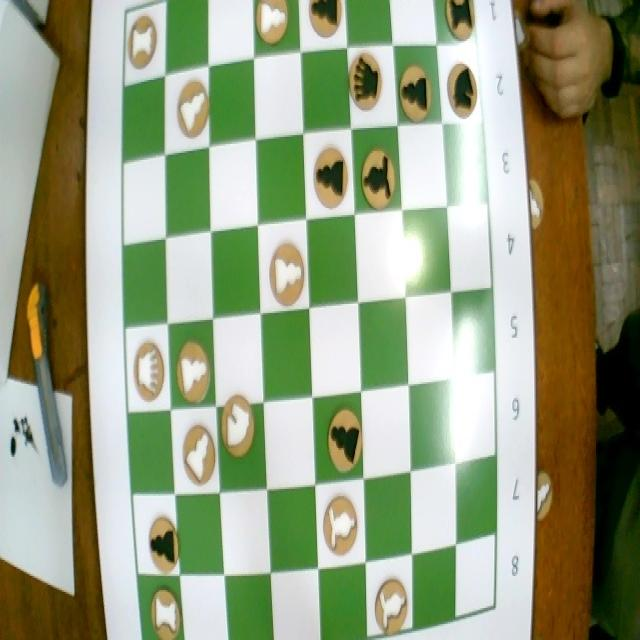chess-pieces: (314, 394, 364, 476), (318, 488, 365, 568), (219, 386, 261, 468), (311, 135, 354, 213), (264, 231, 308, 307), (369, 576, 414, 640), (177, 418, 219, 485), (174, 333, 212, 403), (131, 337, 167, 406), (146, 578, 186, 640), (444, 55, 480, 119), (346, 52, 384, 112), (396, 63, 432, 126), (364, 147, 396, 212), (174, 82, 211, 138), (127, 12, 161, 71), (253, 0, 296, 46), (306, 0, 344, 47), (148, 516, 179, 570), (441, 0, 478, 43)
